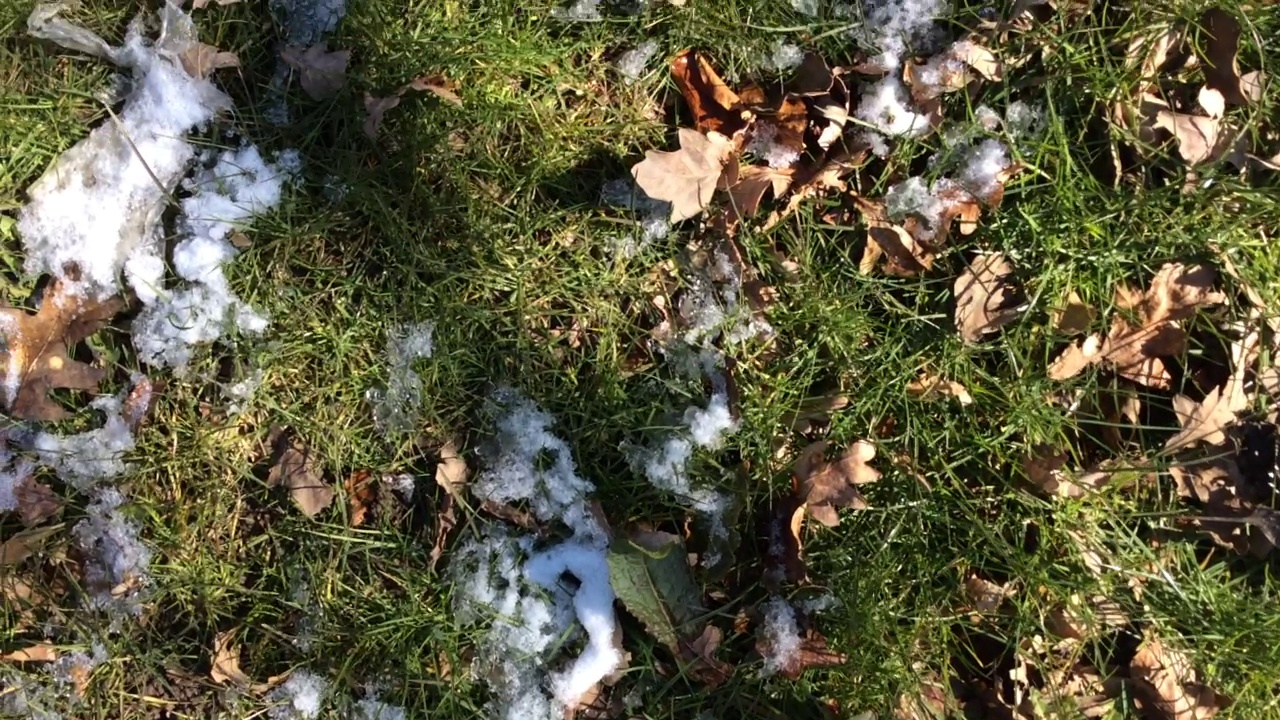root: (679, 675, 741, 715)
rumex: (599, 531, 739, 720)
